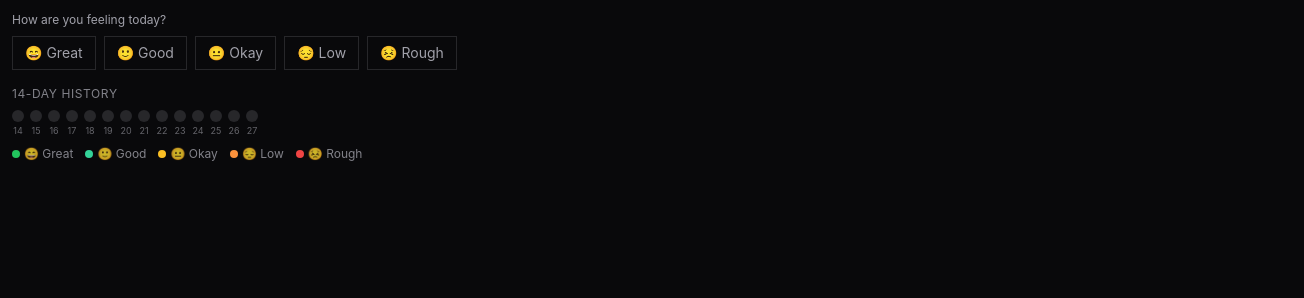
Test: MoodJournal › shows note textarea when mood is selected
Click the button with test id "mood-option-good" at (145, 53), box [104, 36, 187, 70]
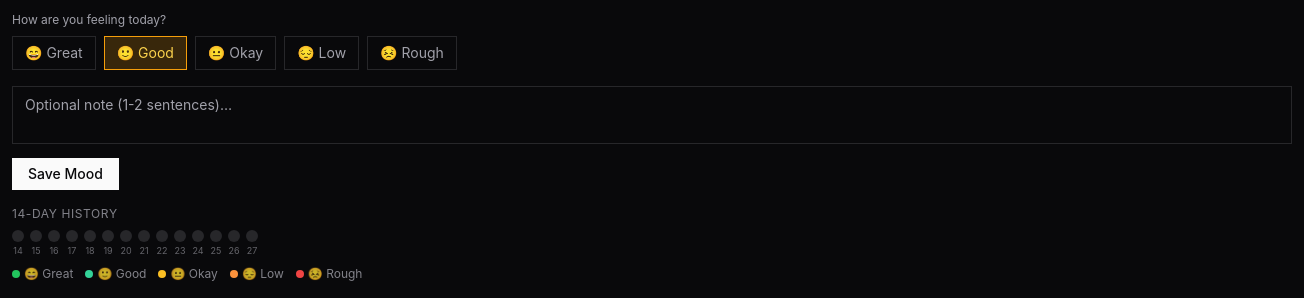
Expected: the text box with placeholder "Optional note (1-2 sentences)…" is shown, [12, 86, 1292, 144]
